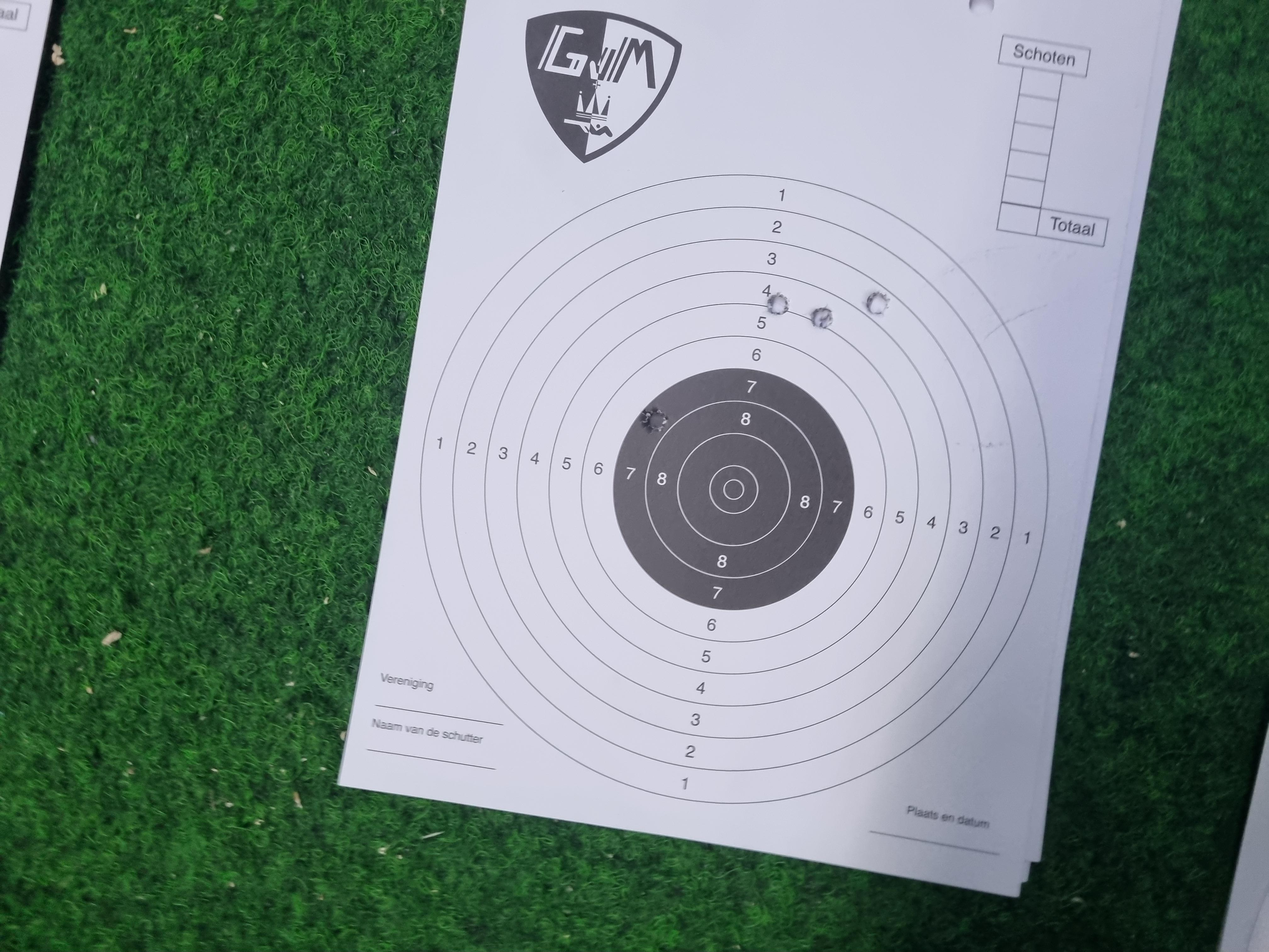hole: (693, 480, 725, 502), (848, 649, 880, 668), (831, 608, 861, 625), (848, 576, 877, 592)
